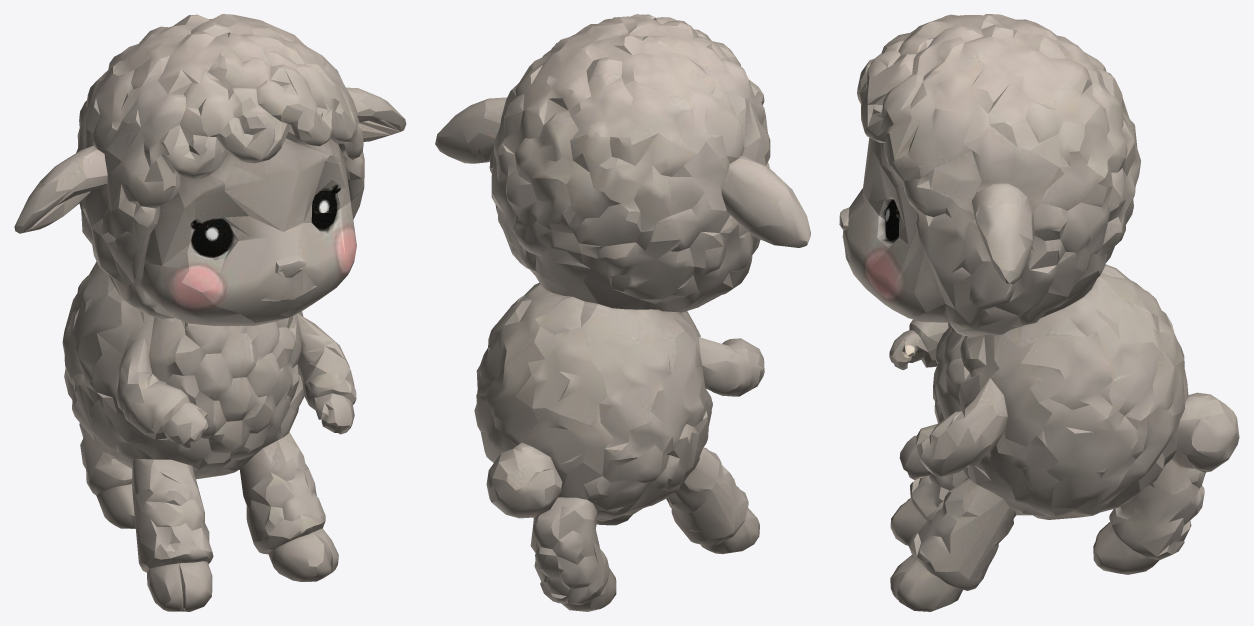
Rendered from sheep.1f2fb81f.glb.
The picture shows the model from 3 angles, left to right: view 1: azimuth 30°, elevation 25°; view 2: azimuth 150°, elevation 25°; view 3: azimuth 270°, elevation 25°; orthographic projection. The views are drawn at different scales.
Parts seen in each view (by area): view 1: output_unwrapped; view 2: output_unwrapped; view 3: output_unwrapped.
Part boxes in pixels (<box>): output_unwrapped: <box>14,14,406,611</box>; output_unwrapped: <box>435,14,810,611</box>; output_unwrapped: <box>839,14,1239,611</box>.
Bounding box in the file's own units: 1.43 × 1.9 × 1.26.
1 material, 1 textured.
